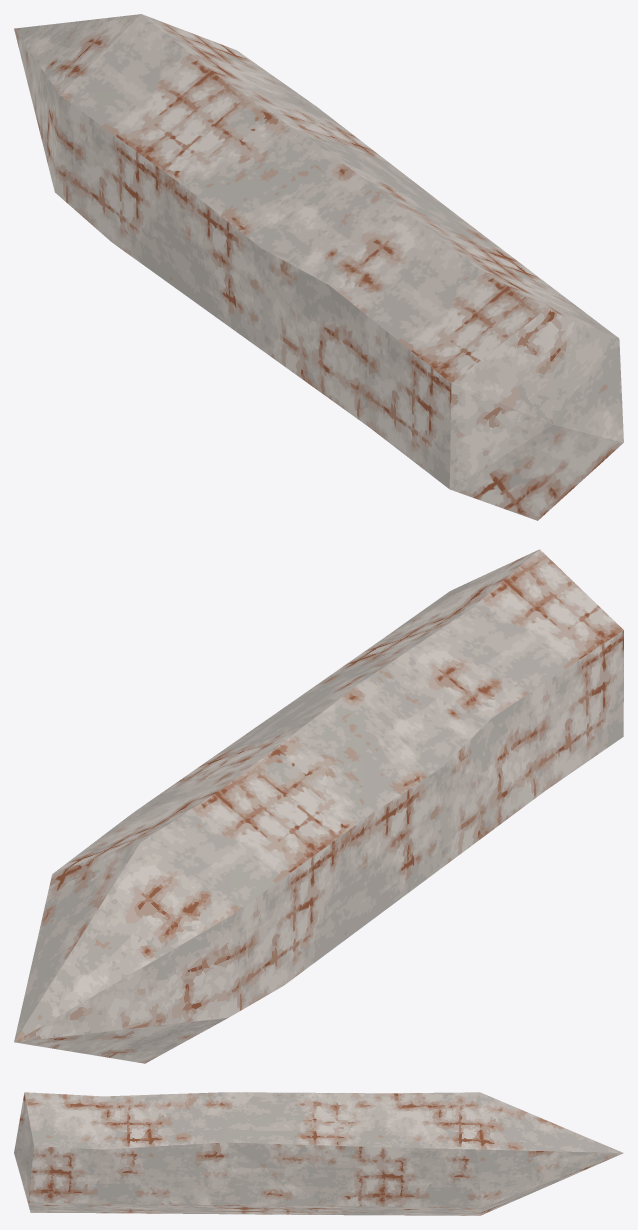
File: escombro1.glb
The picture shows the model from 3 angles, top to bottom: view 1: azimuth 30°, elevation 25°; view 2: azimuth 150°, elevation 25°; view 3: azimuth 270°, elevation 25°; orthographic projection. The views are drawn at different scales.
Visible parts, largest first — view 1: Rocket_whole_0; view 2: Rocket_whole_0; view 3: Rocket_whole_0.
Boxes of the visible parts, left/top/right/bottom form: Rocket_whole_0: left=14, top=14, right=623, bottom=520; Rocket_whole_0: left=14, top=549, right=623, bottom=1063; Rocket_whole_0: left=14, top=1092, right=623, bottom=1215.
Bounding box in the file's own units: 2.82 × 3.24 × 14.23.
Materials: 1 (1 with a texture image).
